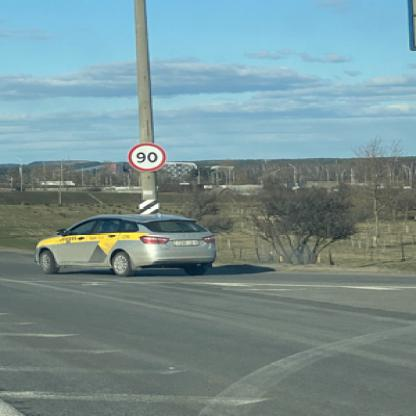speedlimit: (124, 142, 164, 170)
